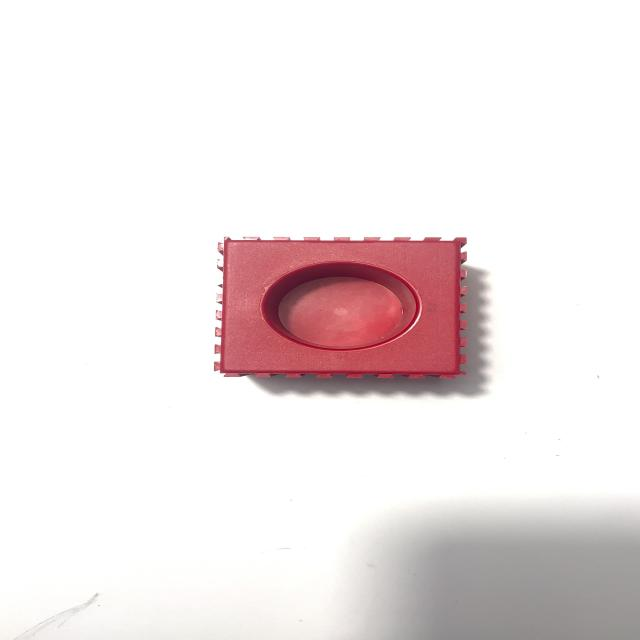Empty_Slot: (213, 238, 465, 378)
